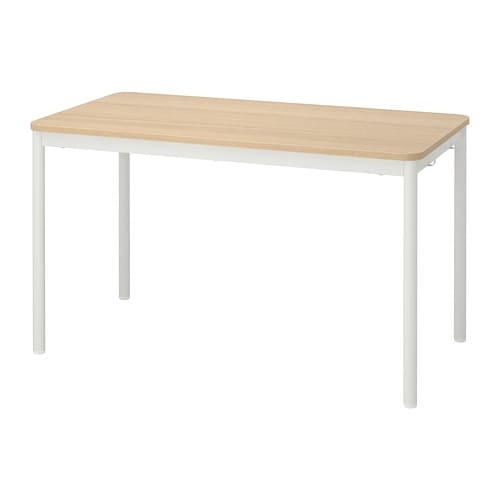obstacle: (31, 93, 468, 407)
